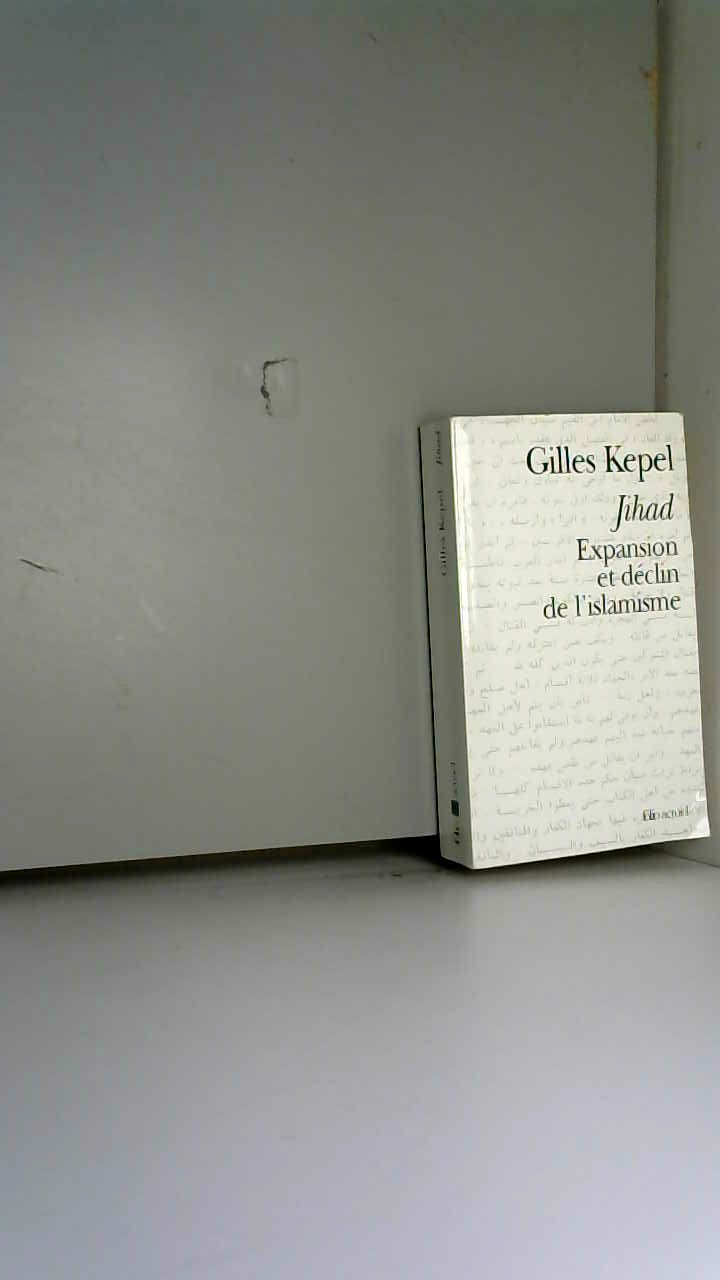book: (390, 380, 720, 896)
